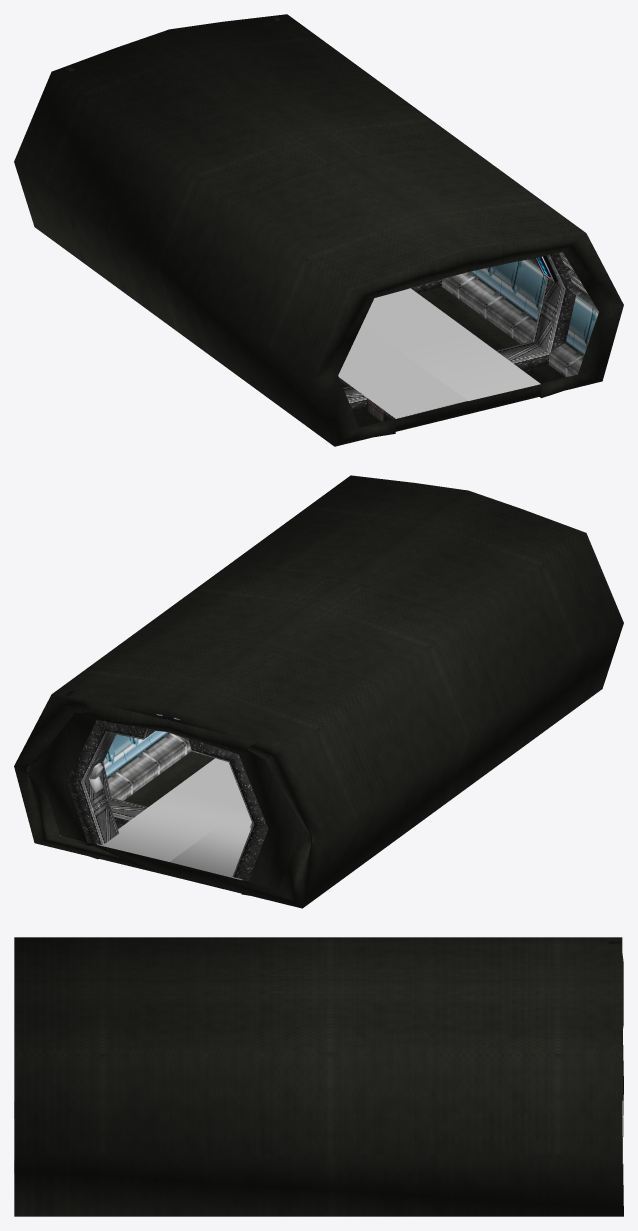
Rendered from Widecorridor.fbx.
3 renders of one model, top to bottom at view 1: azimuth 30°, elevation 25°; view 2: azimuth 150°, elevation 25°; view 3: azimuth 270°, elevation 25°, orthographic.
Visible parts, largest first — view 1: Mesh_025, Mesh_031, Mesh_032, Mesh_017; view 2: Mesh_025, Mesh_031, Mesh_011, Mesh_032, Mesh_019, Mesh_033; view 3: Mesh_031, Mesh_025.
Boxes of the visible parts, <box> form: Mesh_025: <box>14,29,468,446</box>; Mesh_031: <box>169,14,623,413</box>; Mesh_032: <box>338,288,540,418</box>; Mesh_017: <box>343,253,575,413</box>; Mesh_025: <box>169,490,623,908</box>; Mesh_031: <box>14,475,467,875</box>; Mesh_011: <box>31,691,308,888</box>; Mesh_032: <box>97,758,251,880</box>; Mesh_019: <box>67,719,268,881</box>; Mesh_033: <box>100,762,147,828</box>; Mesh_031: <box>14,981,623,1216</box>; Mesh_025: <box>14,937,623,1145</box>.
Bounding box in the file's own units: 180 × 94.45 × 302.
